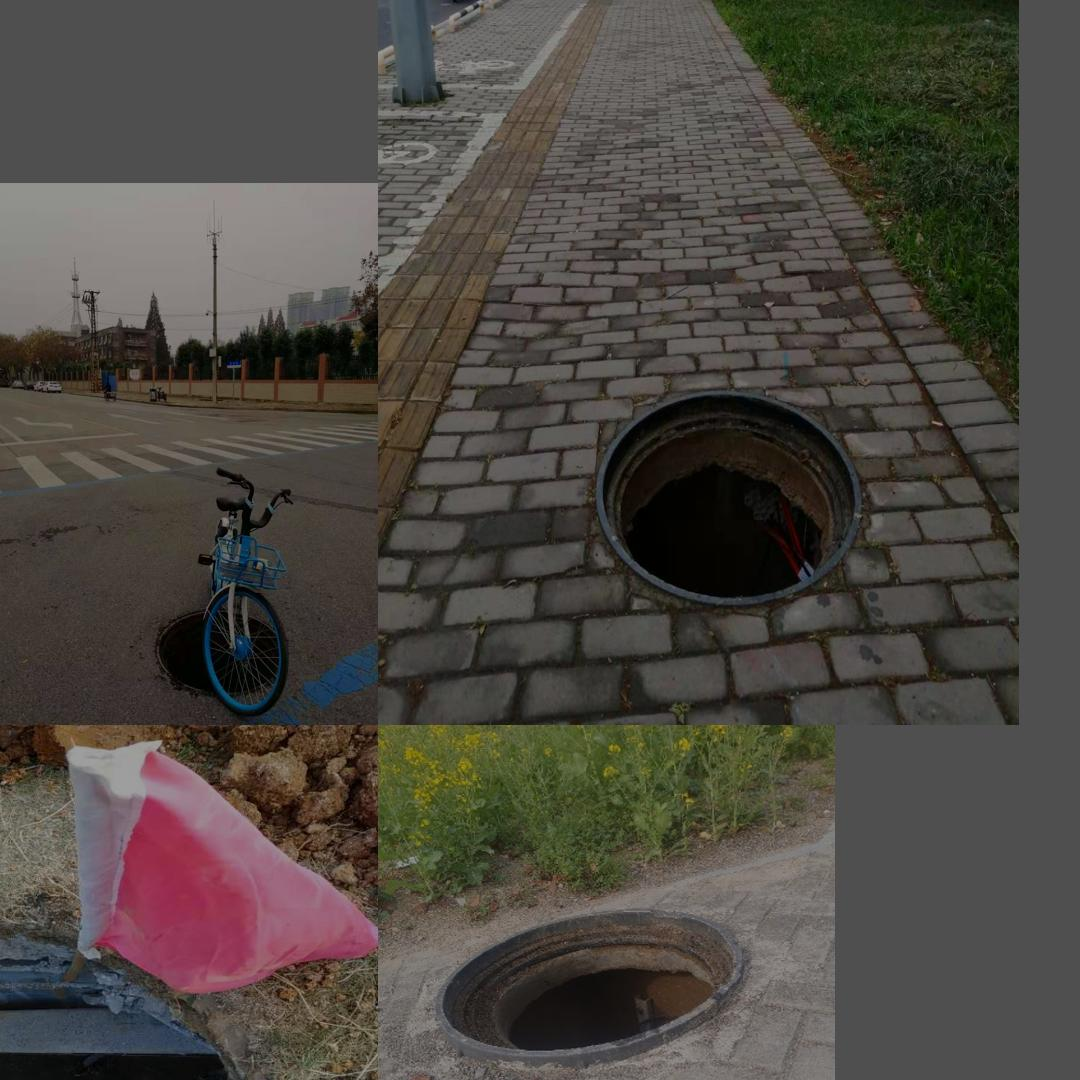lose: (409, 887, 783, 1067), (595, 386, 864, 603), (0, 907, 293, 1080), (157, 607, 284, 700)
